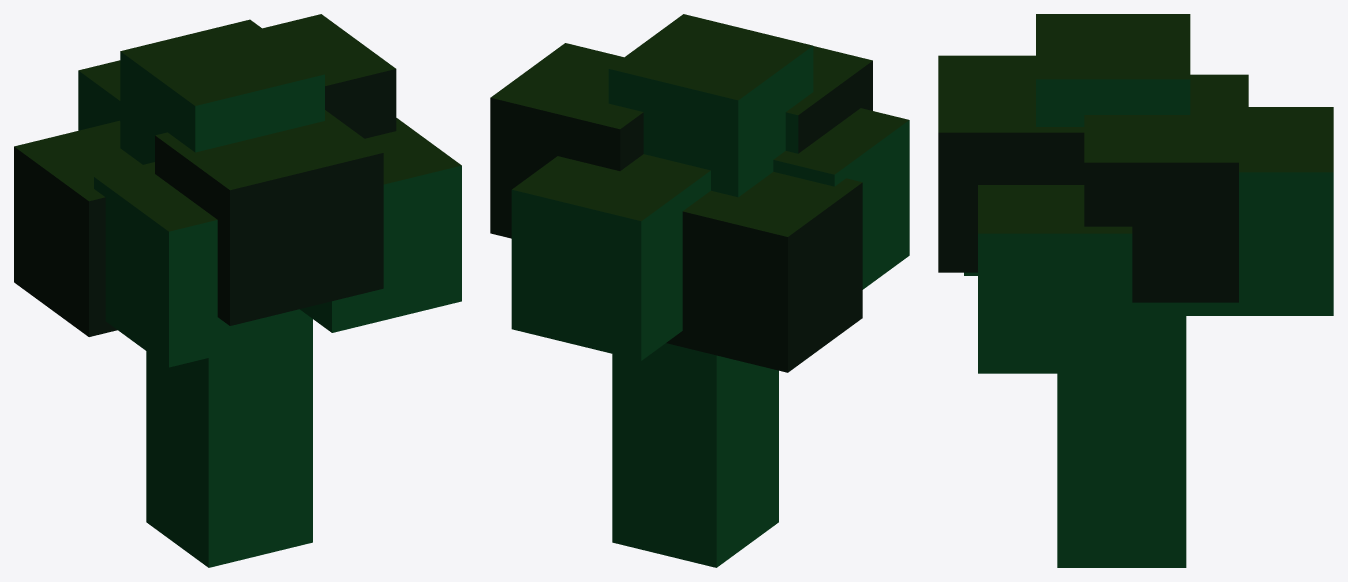
Rendered from Broccoli.FBX.
3 views of the same model, side by side, from view 1: azimuth 30°, elevation 25°; view 2: azimuth 150°, elevation 25°; view 3: azimuth 270°, elevation 25° (orthographic). The views are drawn at different scales.
Visible parts, largest first — view 1: Broccoli; view 2: Broccoli; view 3: Broccoli.
Boxes of the visible parts, x1,y1,x2,y2 form: Broccoli: (14,14,461,567); Broccoli: (490,14,909,567); Broccoli: (938,14,1333,567).
Size of the model in its own units: 43.82 by 62.89 by 46.
